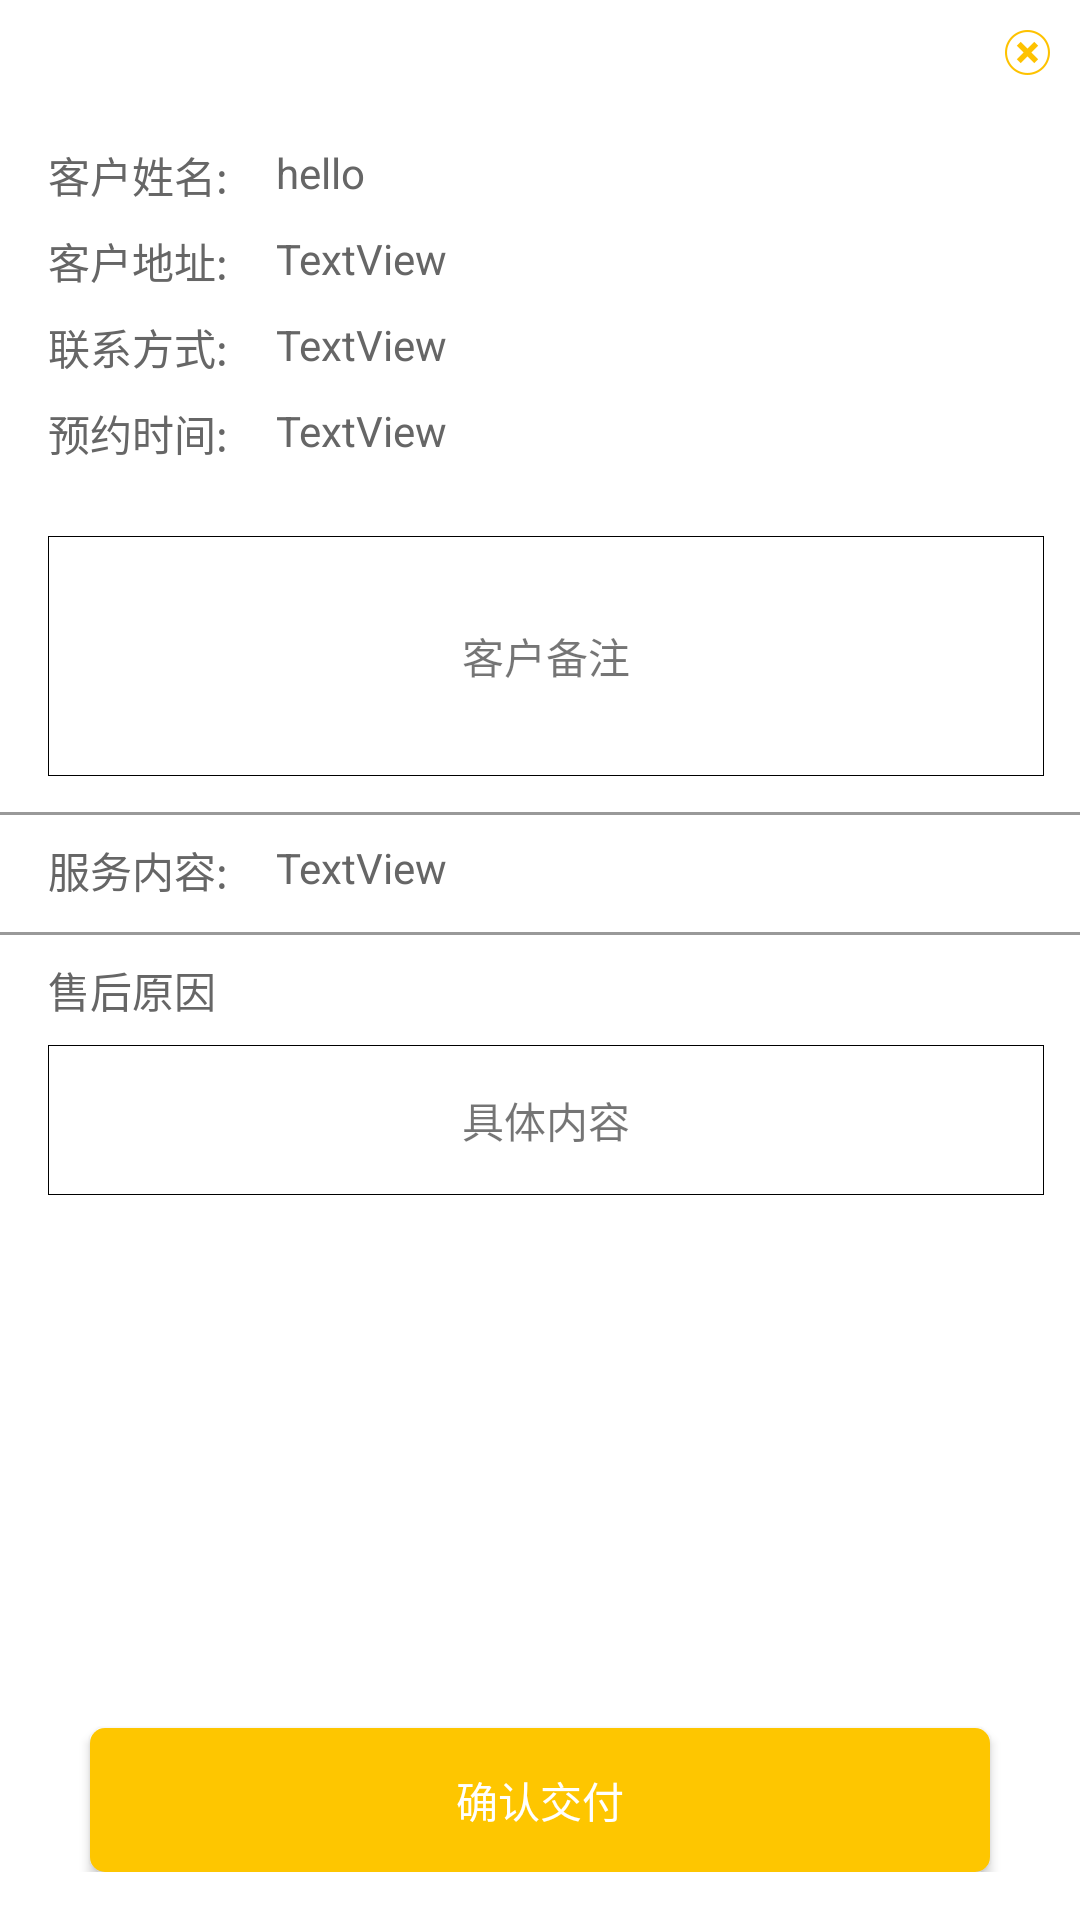

Where icons sit on this 1080x1920 app screen, as (x1, y1, x2, y2):
关闭: (1005, 30, 1050, 75)
